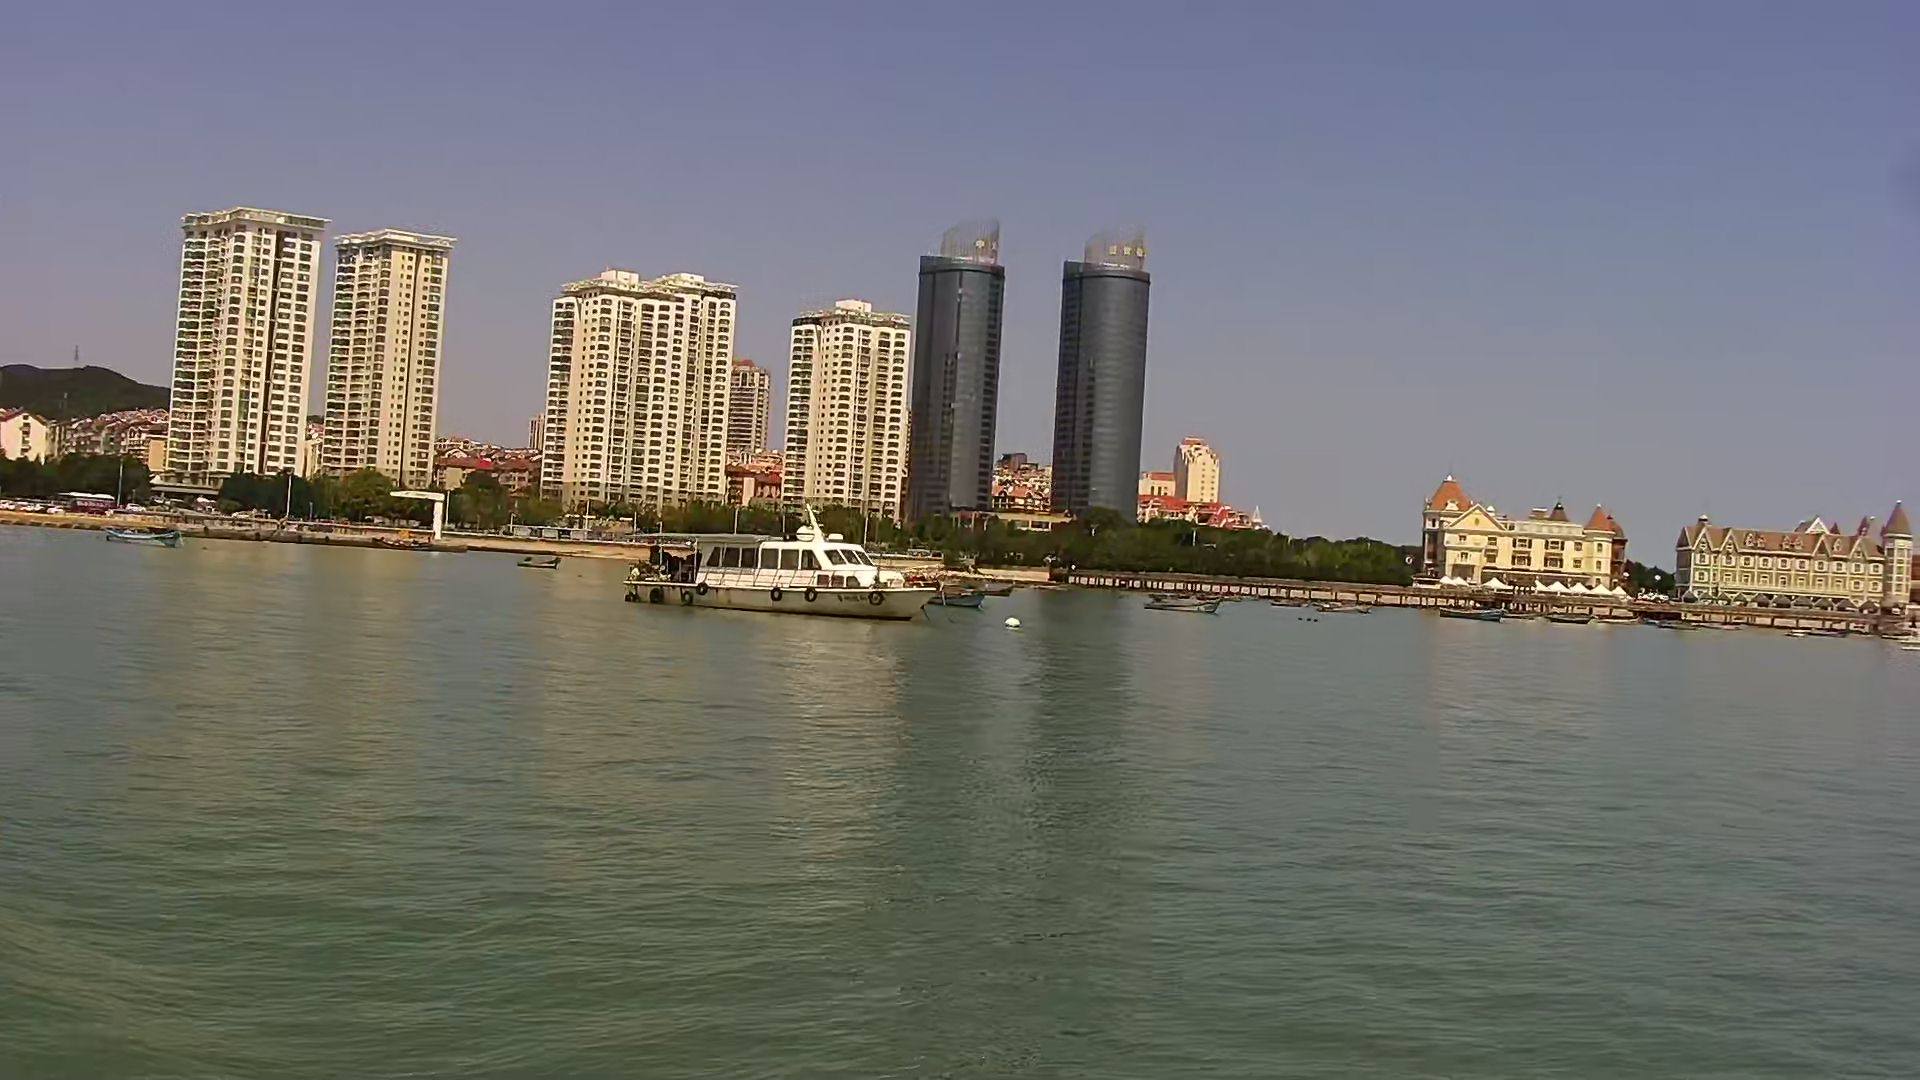ball: (1004, 613, 1023, 632)
boat: (96, 522, 186, 549), (1143, 591, 1228, 615), (512, 550, 566, 571)
ship: (617, 513, 947, 620)
